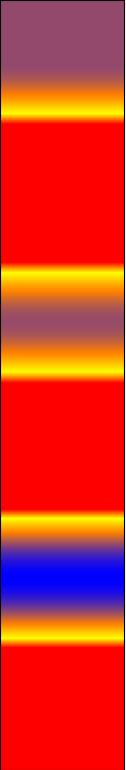Thermal Runaway: (6, 104, 118, 288), (9, 359, 113, 531), (11, 629, 109, 766)
critical: (10, 8, 115, 94), (9, 296, 115, 350), (10, 612, 116, 622), (6, 539, 121, 546)
safe: (4, 551, 123, 604)
